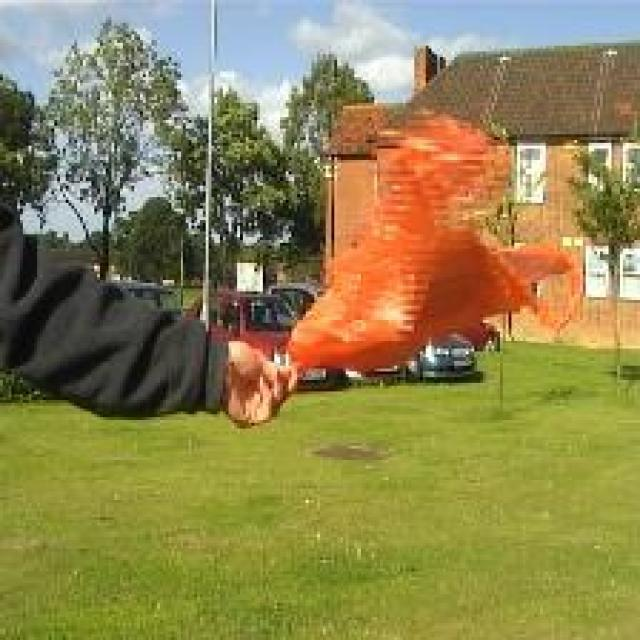other: (270, 115, 604, 398)
